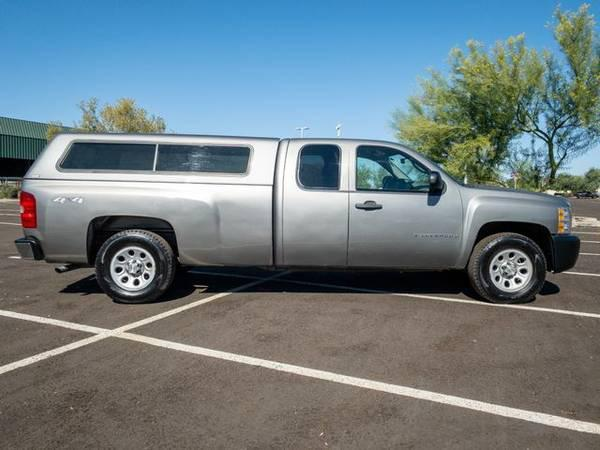Front_Bumper: (552, 236, 583, 274)
Front_Fender: (457, 188, 571, 270)
Front_Right_Door: (346, 192, 463, 268)
Front_Right_Window: (351, 138, 464, 197)
Rear_Bumper: (14, 236, 42, 261)
Rear_Fender: (25, 135, 282, 268)
Rear_Right_Door: (275, 185, 348, 267)
Rear_Right_Window: (277, 136, 351, 191)
Right_Headlight: (558, 206, 575, 235)
Right_Taillight: (19, 188, 39, 230)
Wheel: (94, 228, 173, 305), (469, 229, 549, 302)
